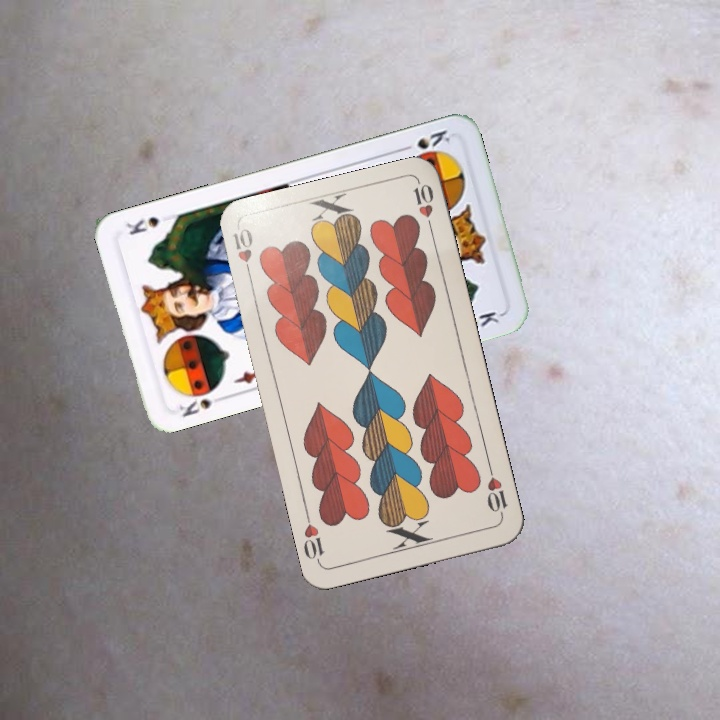H10: (483, 462, 511, 520), (229, 224, 256, 283)
SK: (396, 125, 453, 154), (174, 395, 214, 420)
